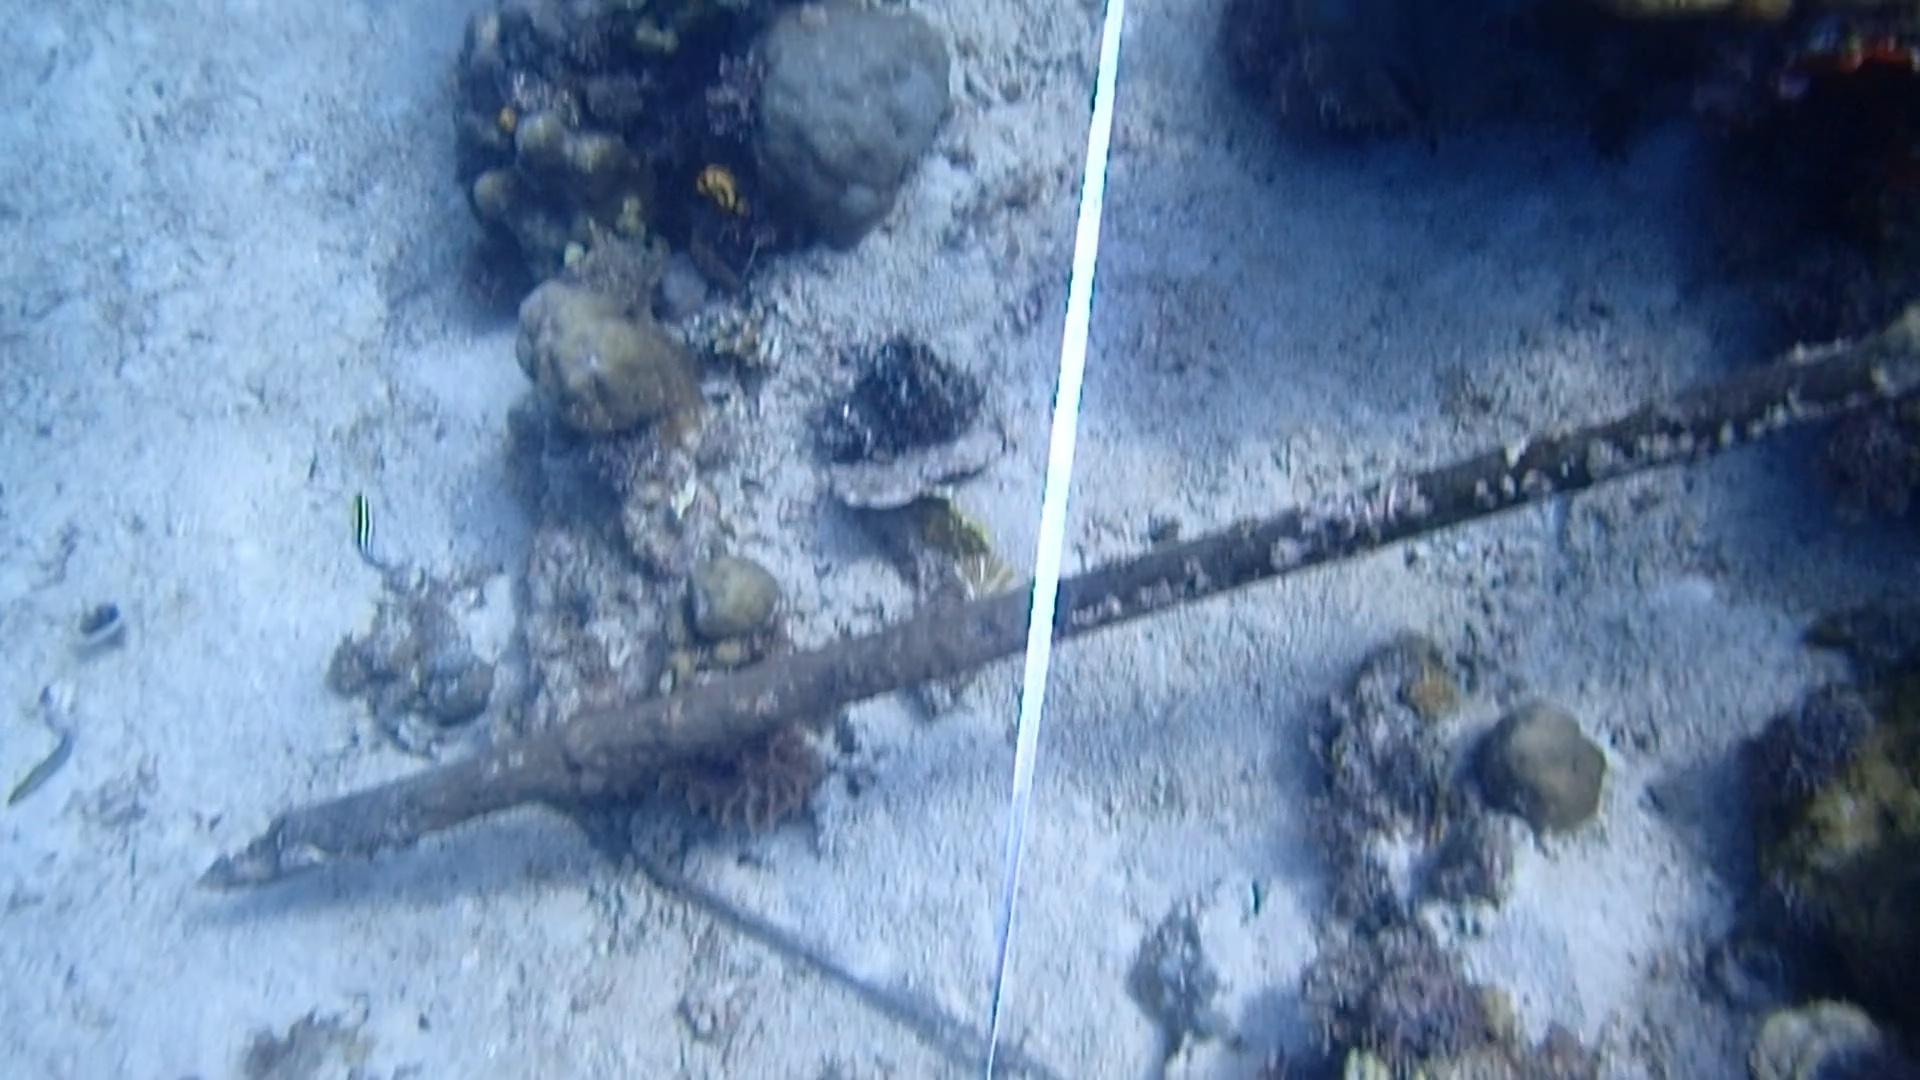Dark Fish: (1379, 50, 1445, 123)
Striped Fish: (0, 729, 86, 816), (344, 479, 392, 582)
